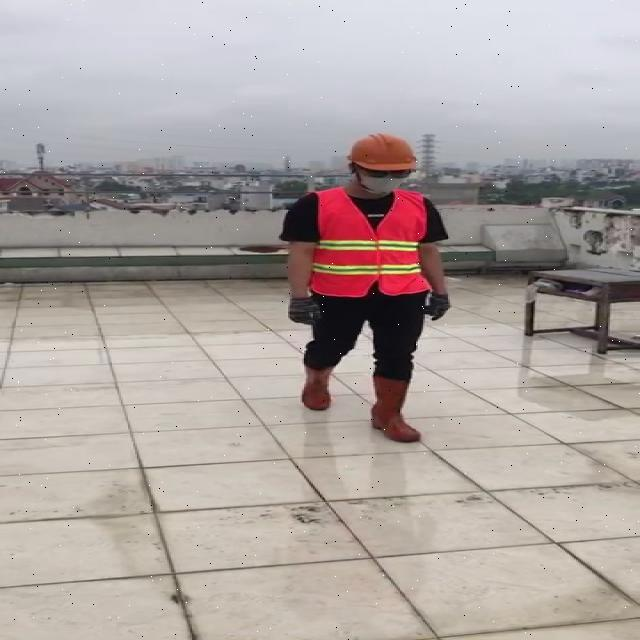Hard_hat: (340, 130, 423, 174)
Person: (276, 132, 461, 456)
Vest: (309, 186, 423, 302)
